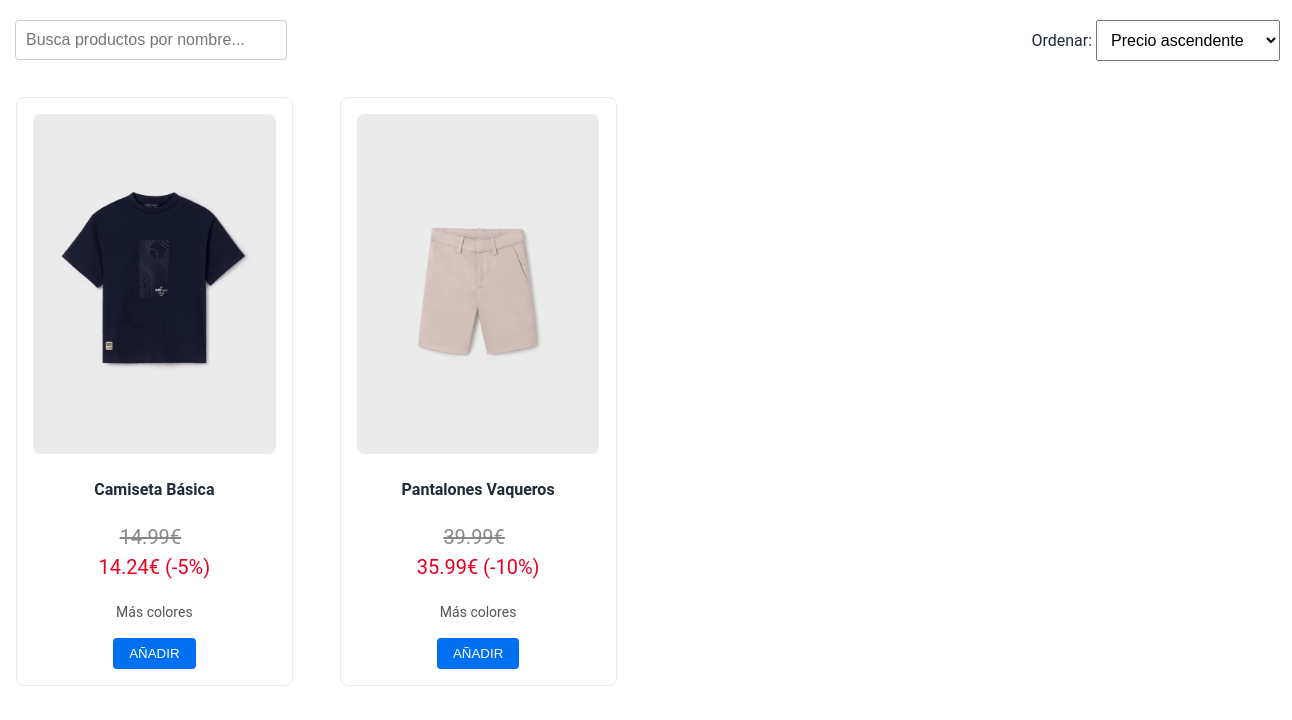
it: ProductList › filters products based on search query
Type "Camiseta" into the field with placeholder "Busca productos por nombre...".
click(151, 40); type("Camiseta")  # box [15,20,287,60]
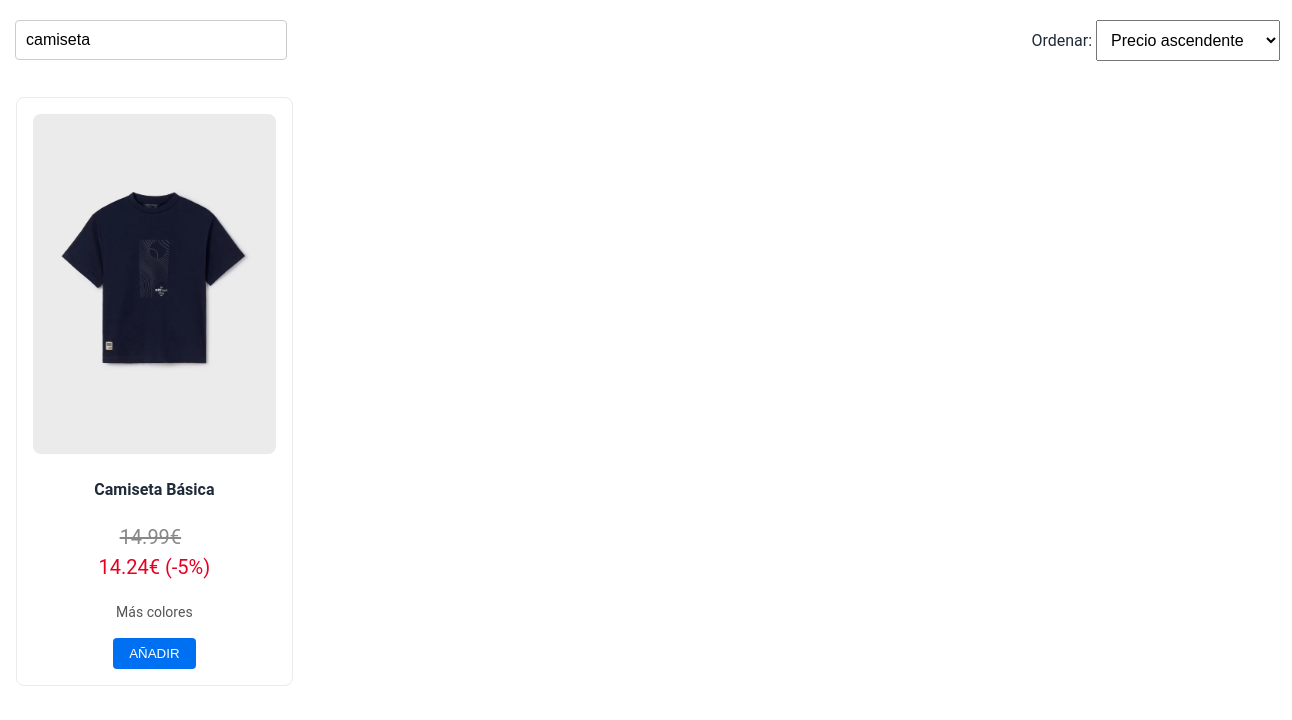
Check: the number of headings is 1, box [94,478,214,502]
Check: the heading "Pantalones Vaqueros" is gone
